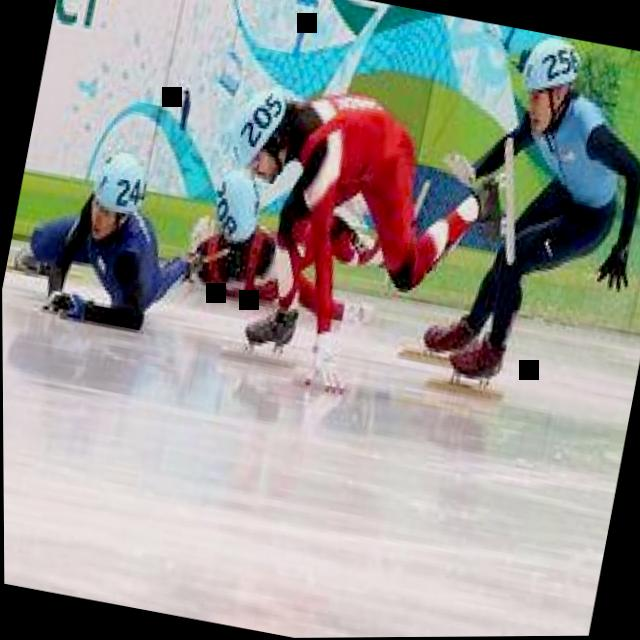Fall-Detected: (188, 49, 518, 364)
